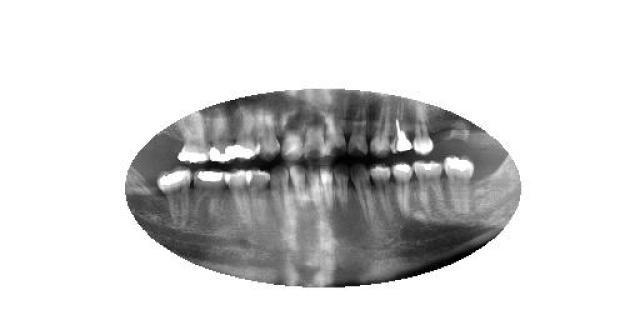Fillings: (158, 165, 194, 227), (195, 166, 226, 228), (414, 158, 444, 220), (232, 106, 262, 162), (444, 156, 474, 212), (178, 116, 212, 162), (209, 116, 235, 160), (394, 161, 414, 215)
Implant: (392, 106, 412, 154)
